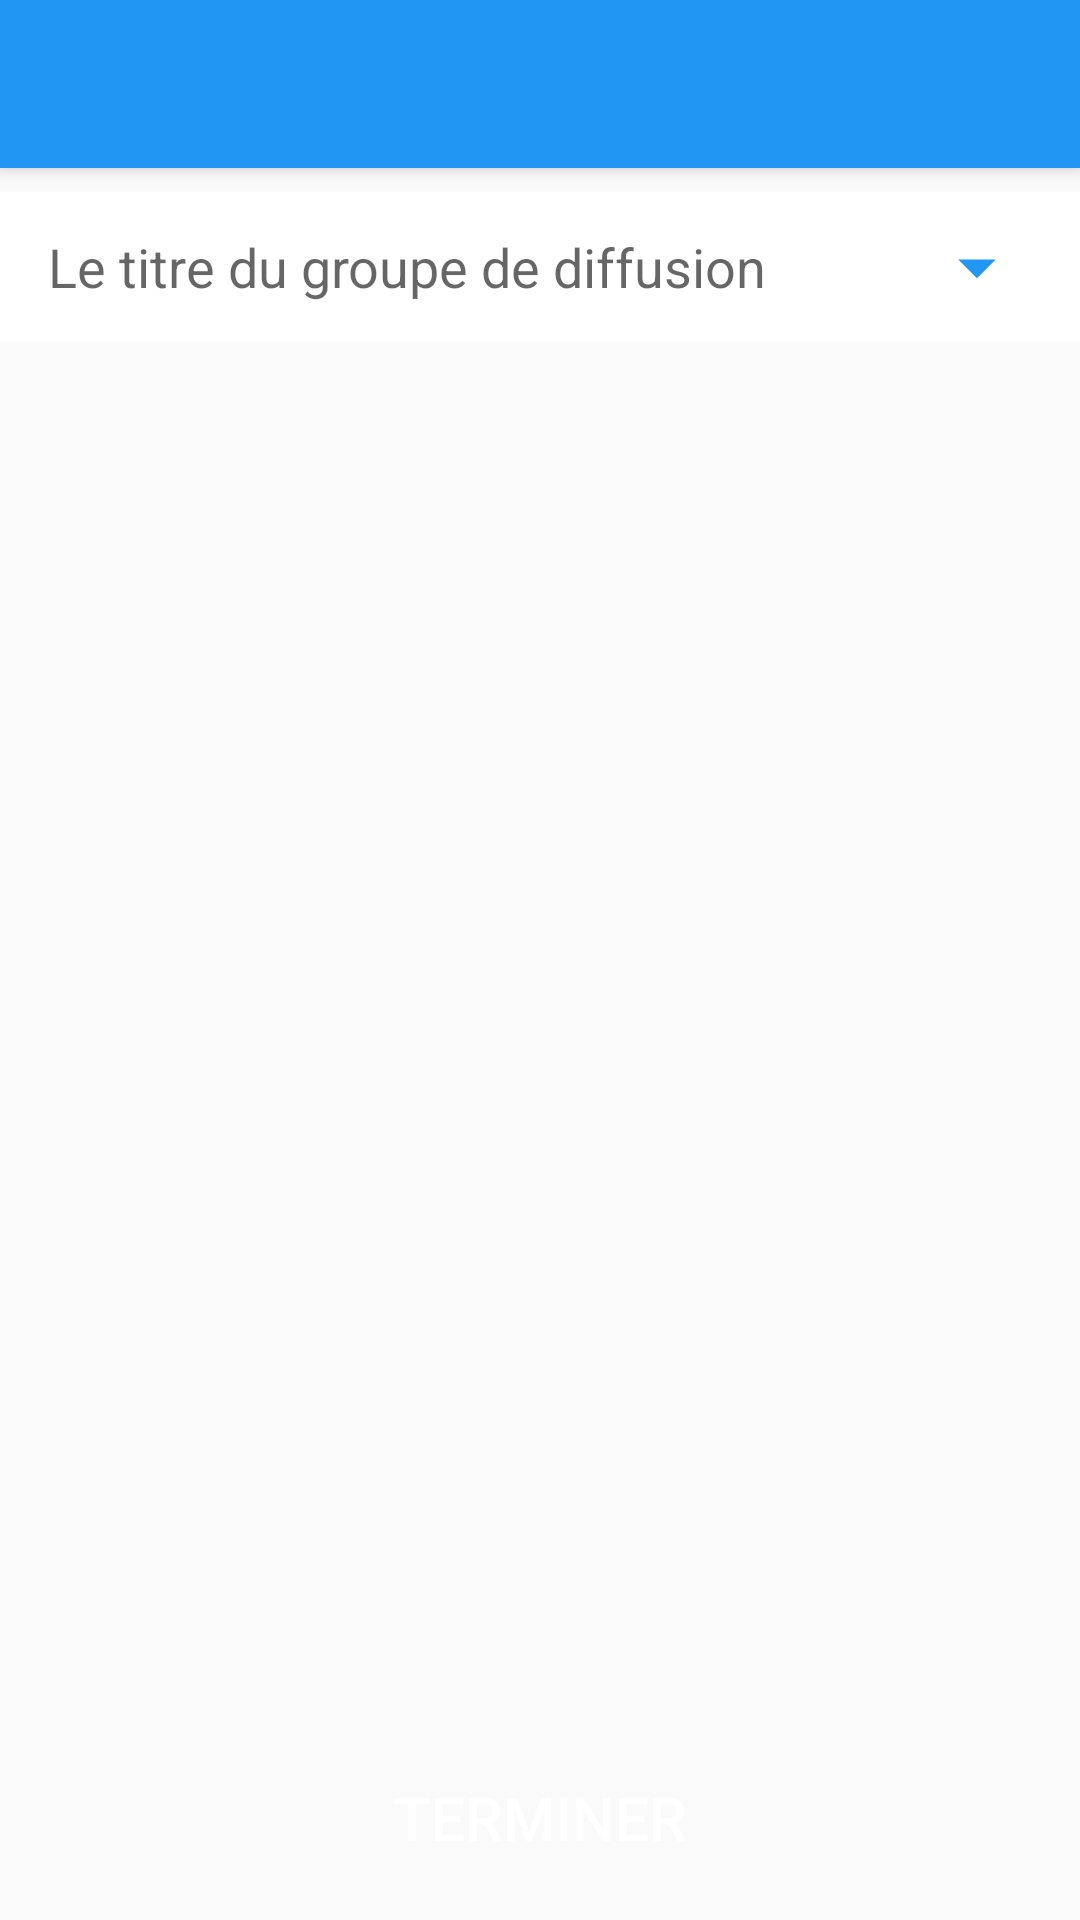

Screen size 1080 × 1920. Icon name, then its center in pixels as [x,y]:
arrow drop down: [977,268]
